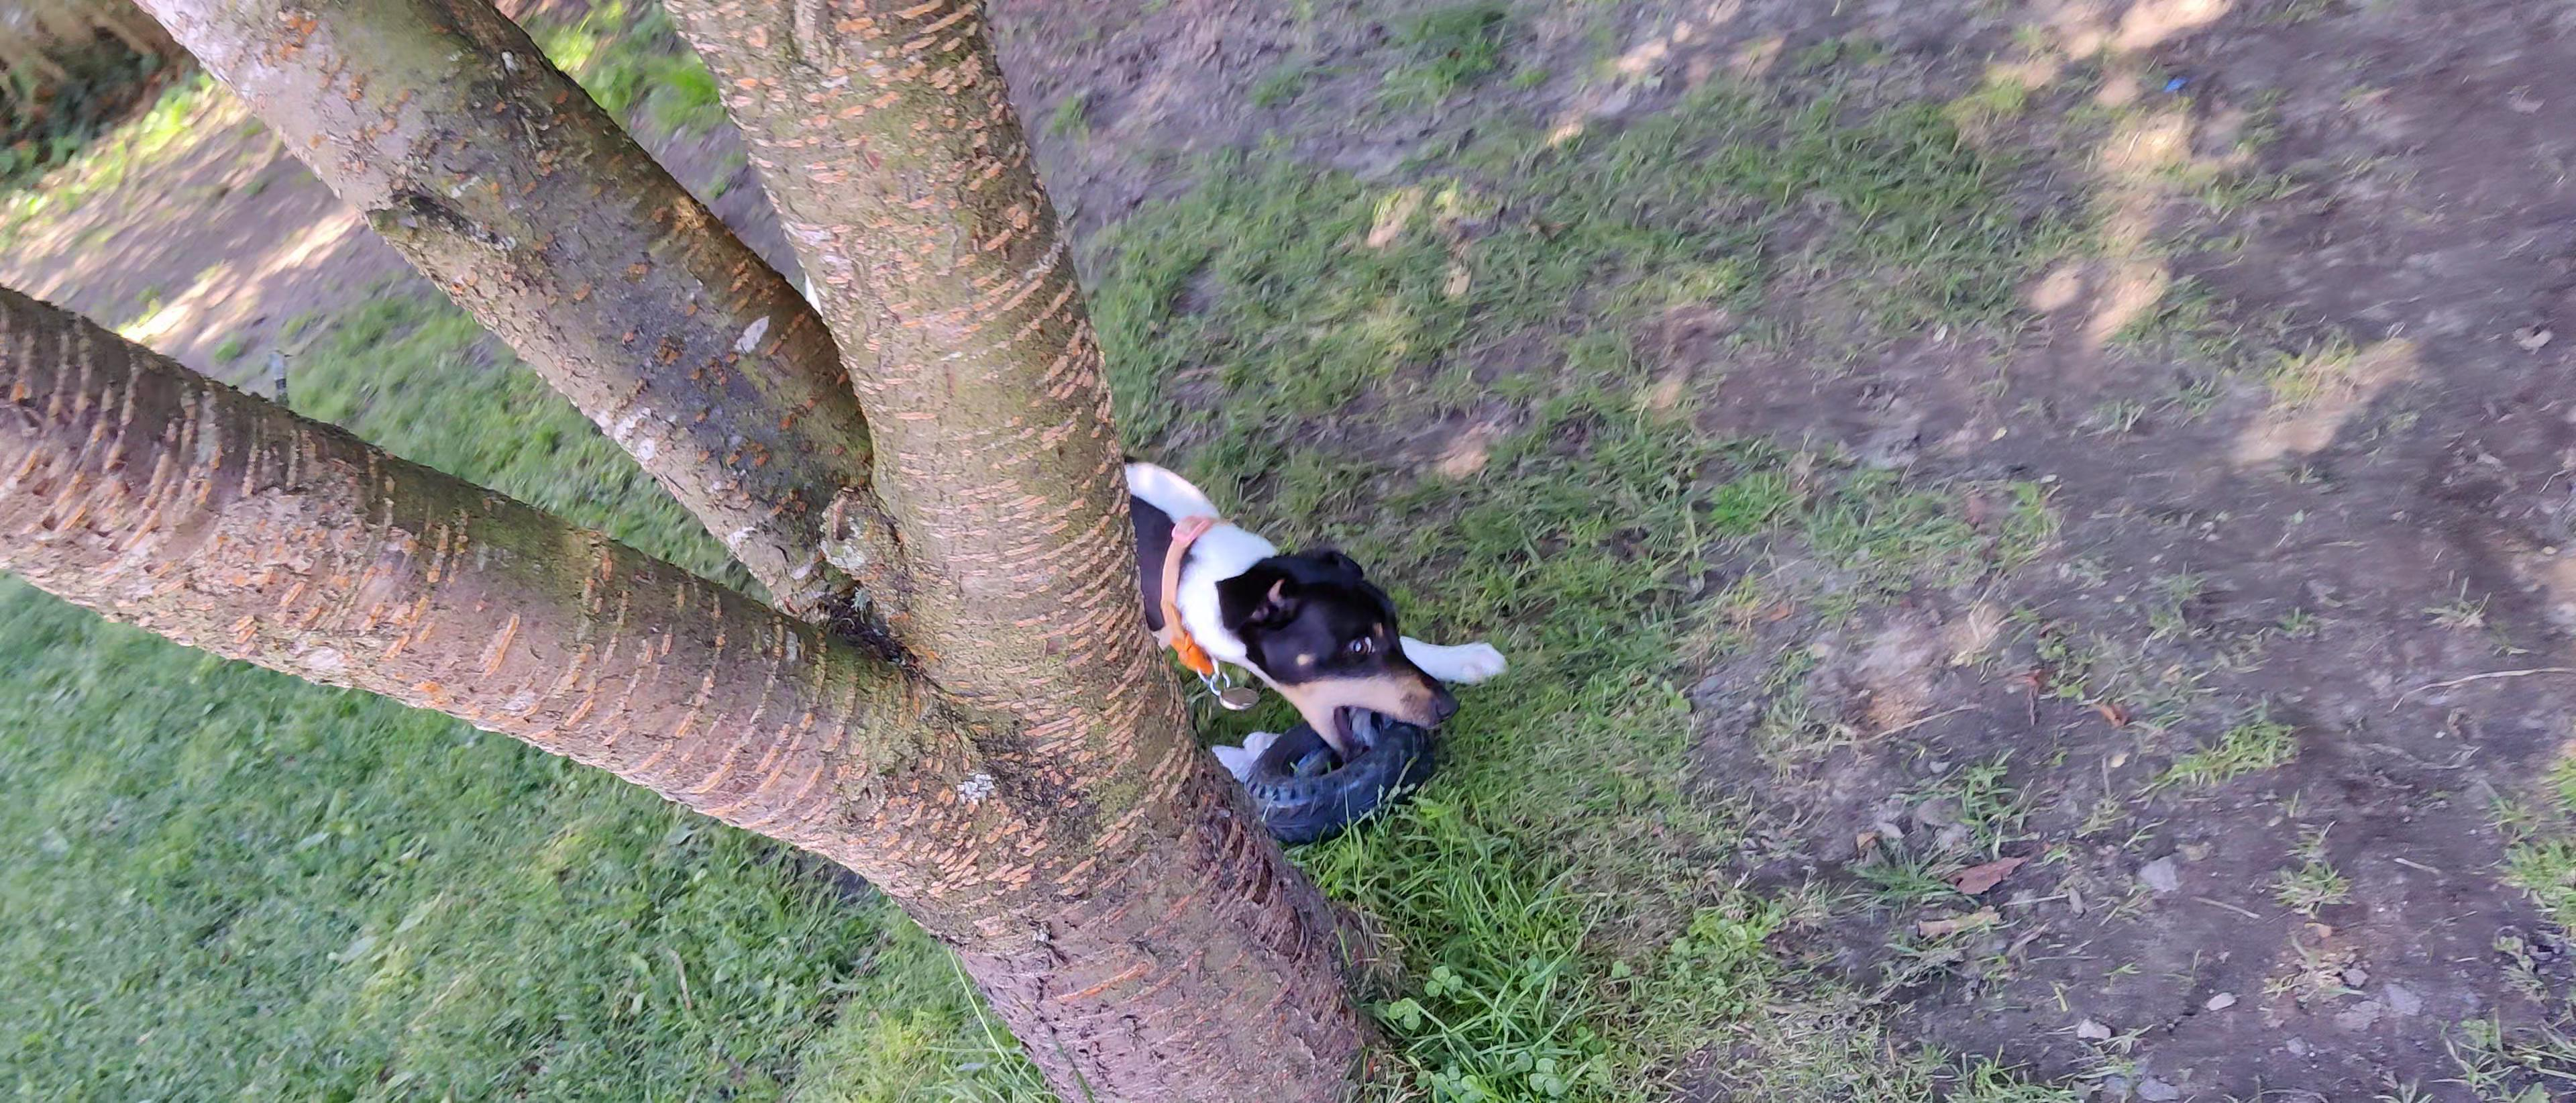Dog: (1089, 454, 1513, 763)
